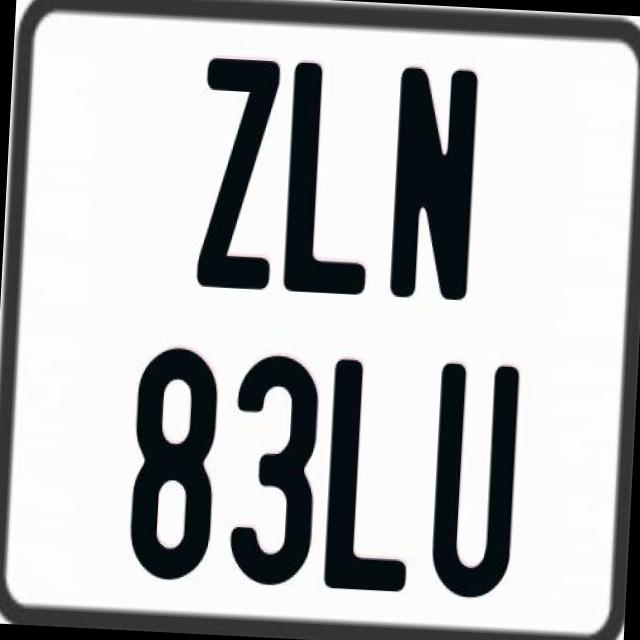3: (225, 353, 324, 589)
8: (125, 344, 222, 590)
L: (279, 59, 379, 302), (320, 354, 420, 594)
N: (385, 64, 480, 308)
U: (428, 360, 524, 602)
Z: (196, 52, 288, 288)
